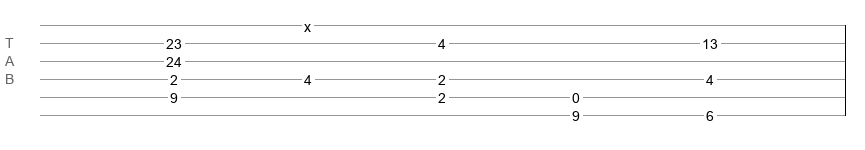0: (572, 90, 580, 100)
13: (702, 36, 718, 46)
2: (170, 72, 178, 82), (438, 72, 446, 82), (438, 90, 446, 100)
23: (166, 36, 182, 46)
24: (166, 54, 182, 64)
4: (304, 72, 312, 82), (438, 36, 446, 46), (706, 72, 714, 82)
6: (706, 108, 714, 118)
9: (170, 90, 178, 100), (572, 108, 580, 118)
x: (304, 19, 311, 27)
